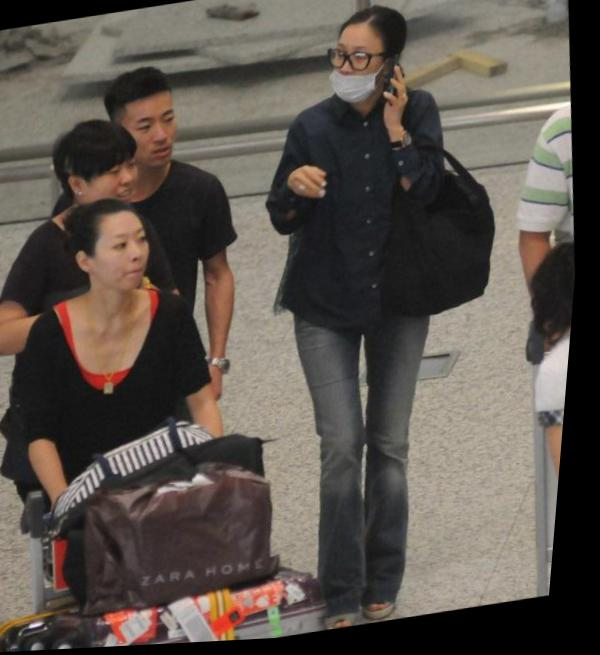NONE: (99, 228, 161, 296), (128, 108, 189, 173), (83, 159, 146, 218)
WRONG: (327, 35, 403, 109)
